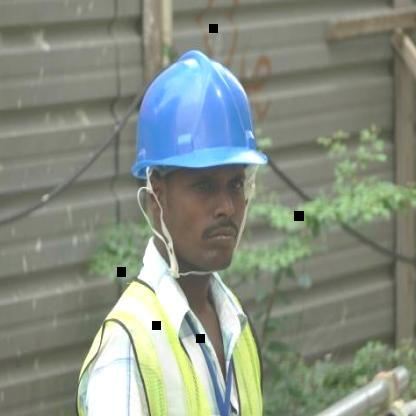helmet: (118, 44, 274, 218)
